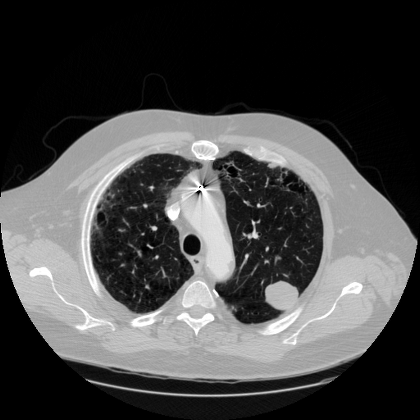nodule: (264, 279, 296, 311)
